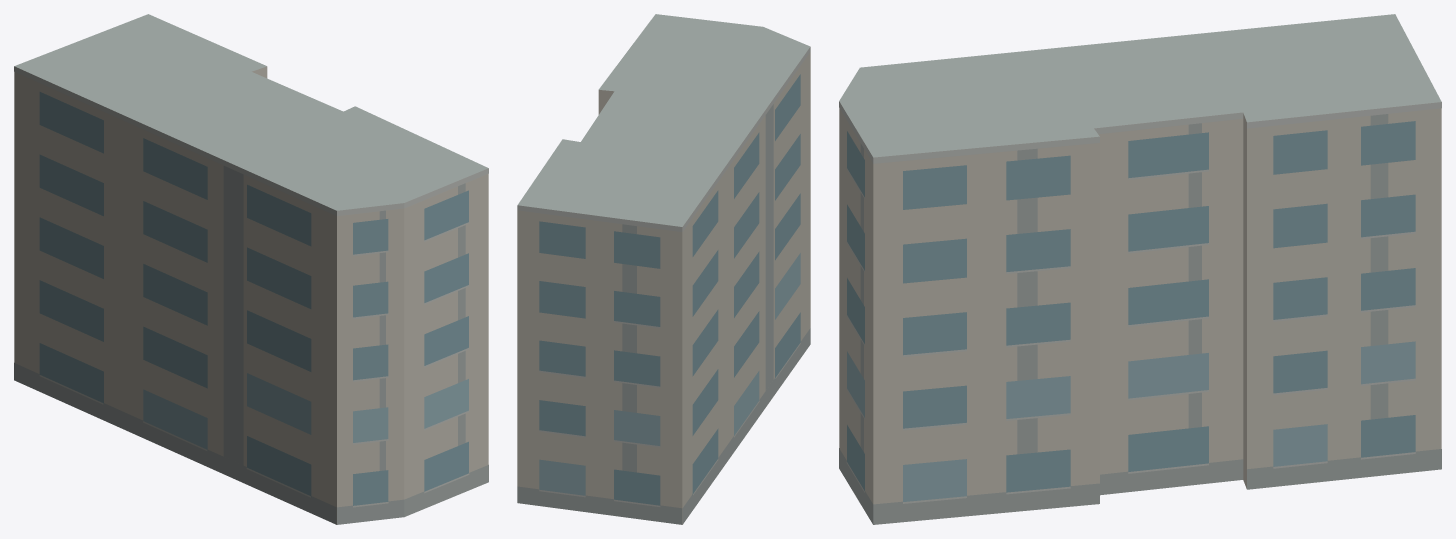
The model's file is survey-upis-33000785.glb.
The picture shows the model from 3 angles, left to right: view 1: azimuth 30°, elevation 25°; view 2: azimuth 150°, elevation 25°; view 3: azimuth 270°, elevation 25°; orthographic projection. The views are drawn at different scales.
Visible parts, largest first — view 1: survey-upis-33000785.tmp; view 2: survey-upis-33000785.tmp; view 3: survey-upis-33000785.tmp.
Part boxes in pixels (box(x1,y1,x2,y2)): survey-upis-33000785.tmp: box(14, 14, 488, 524); survey-upis-33000785.tmp: box(517, 14, 810, 524); survey-upis-33000785.tmp: box(839, 14, 1441, 524).
Size of the model in its own units: 11.91 by 14.2 by 21.13.
